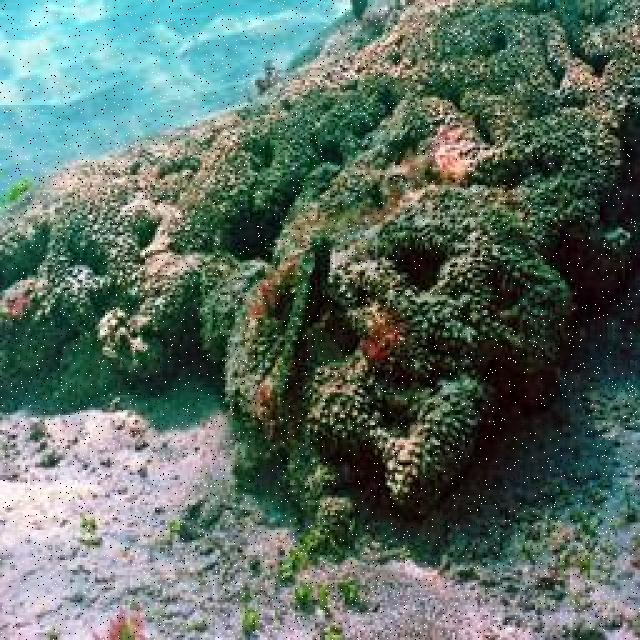reefs: (0, 1, 638, 585)
